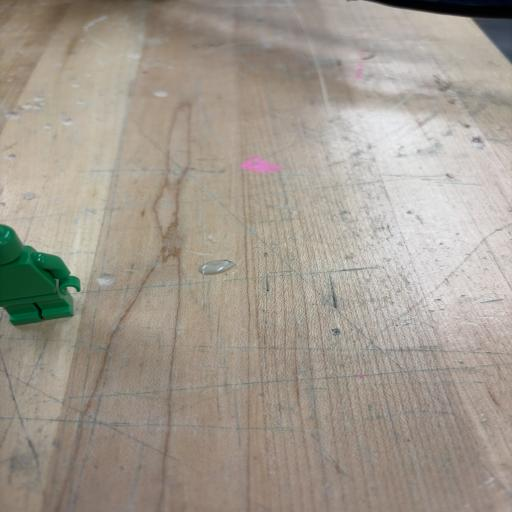Green-Lego: (0, 224, 80, 325)
